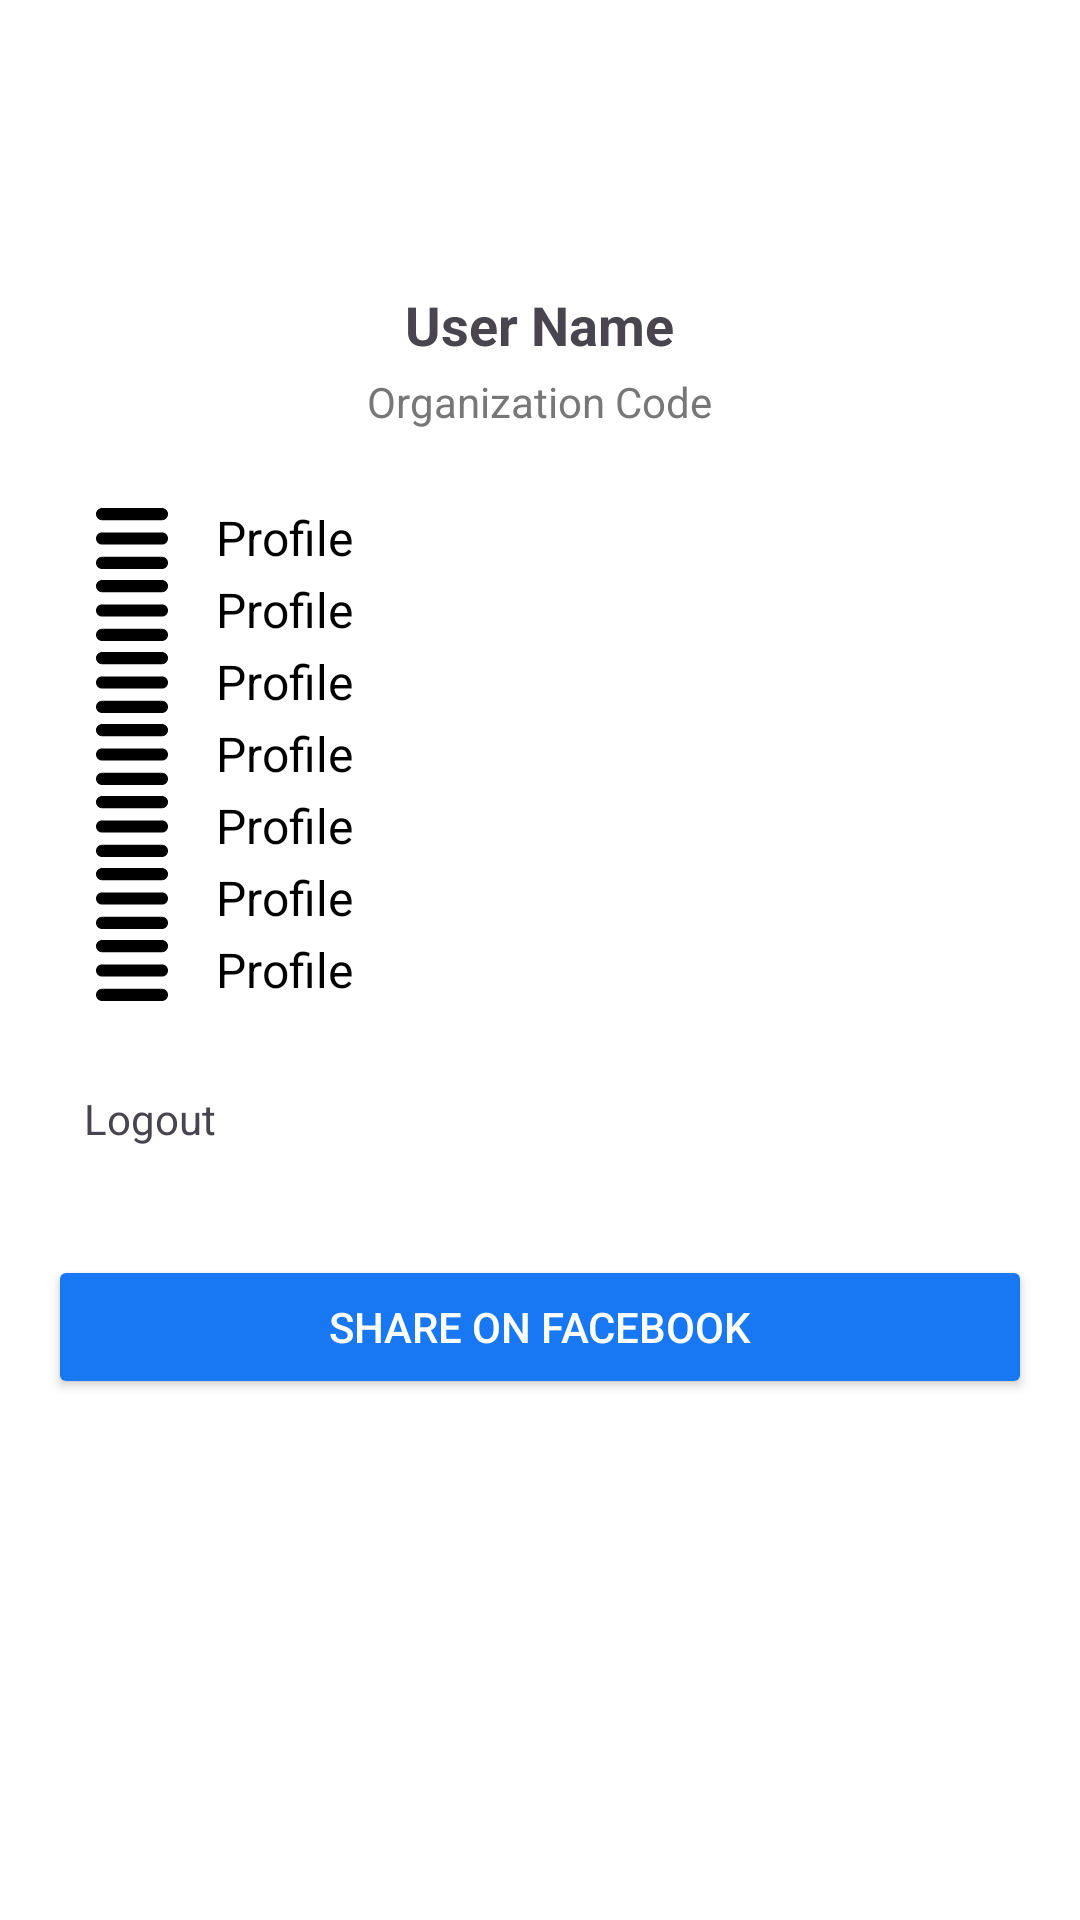

Where to tap for icons on this 1080 × 1920 app screen, as point (x, y):
menu: point (132, 538), point (132, 610), point (132, 682), point (132, 754), point (132, 826), point (132, 898), point (132, 970)
